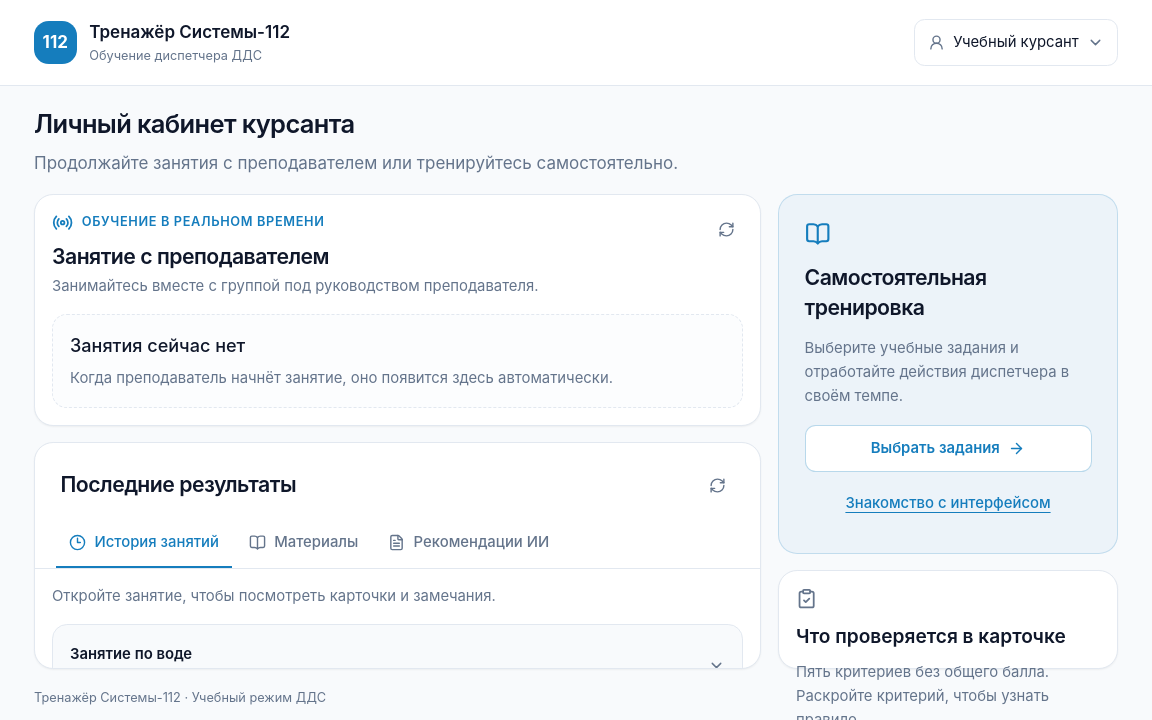
Test: keeps an automatic 100 out of the teacher assessment when the teacher has not graded
Click the heading "Занятие по воде".
click(131, 654)  # box [70,645,192,663]
(page scrolled)
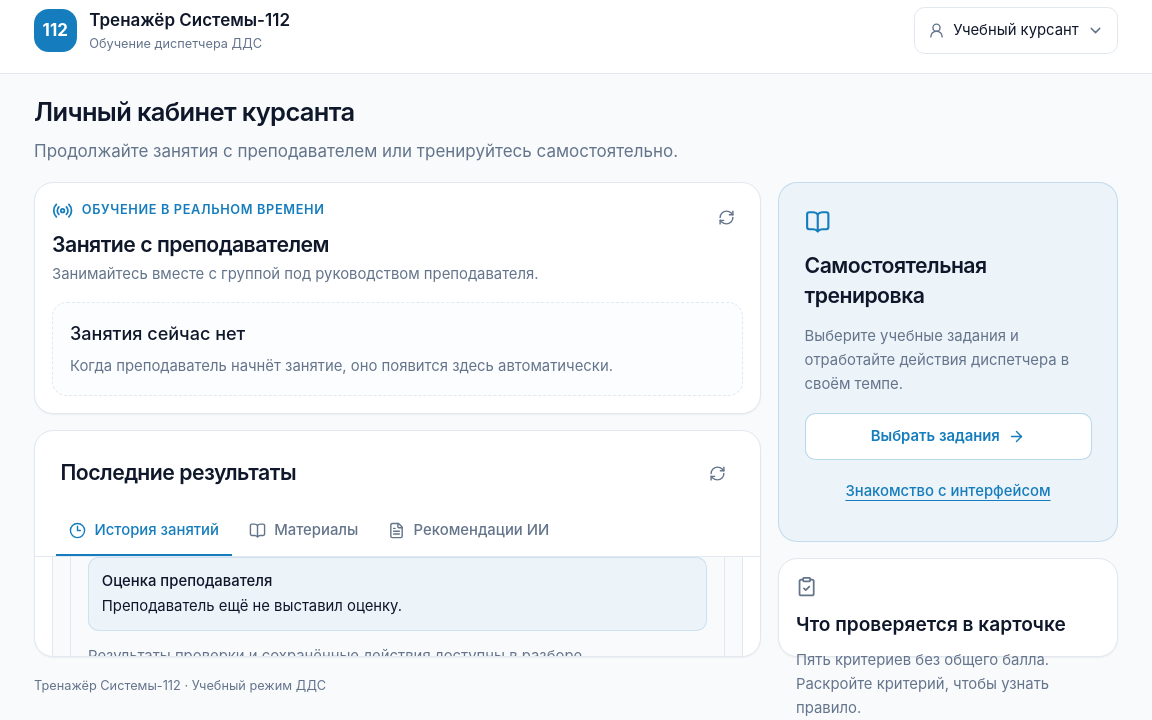
Expected: the text "Оценка преподавателя" is shown, [102,572,272,590]
Expected: the text "Преподаватель ещё не выставил оценку." is shown, [102,597,402,615]
